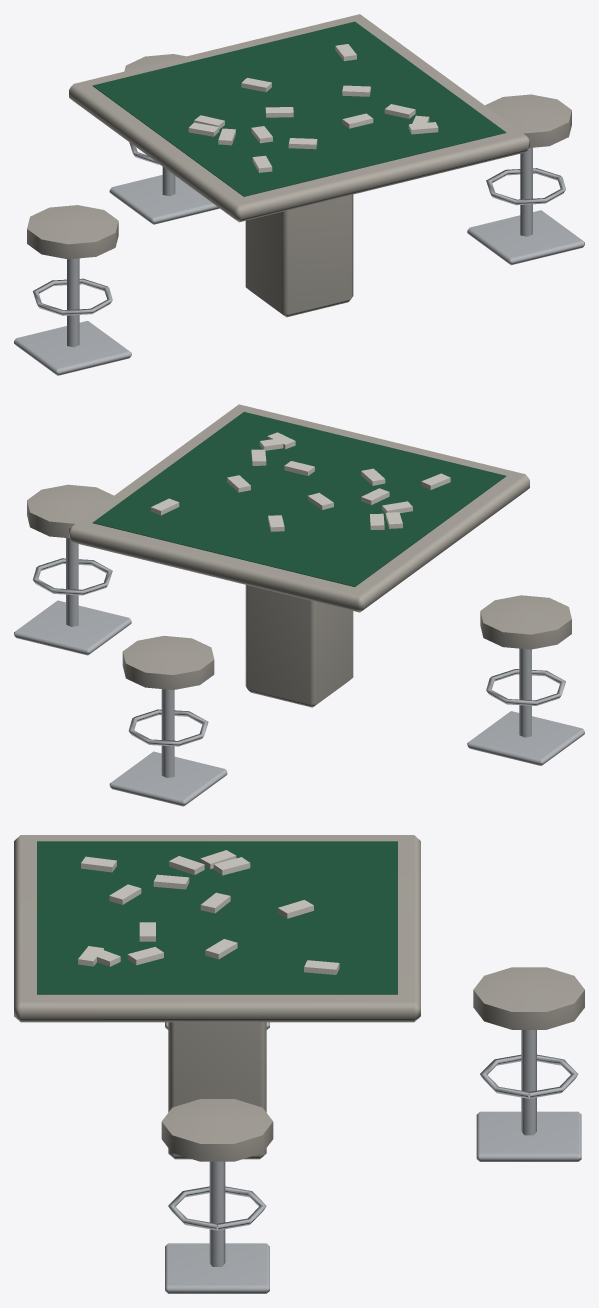
The model's file is DominoTableMIA.fbx.
3 views of the same model, one above another, from view 1: azimuth 30°, elevation 25°; view 2: azimuth 150°, elevation 25°; view 3: azimuth 270°, elevation 25° (orthographic). The views are drawn at different scales.
Visible parts, largest first — view 1: DominoTableMIA; view 2: DominoTableMIA; view 3: DominoTableMIA.
Boxes of the visible parts, x1=… form: DominoTableMIA: x1=14, y1=14, x2=584, y2=375; DominoTableMIA: x1=14, y1=404, x2=584, y2=806; DominoTableMIA: x1=14, y1=835, x2=584, y2=1293.
Size of the model in its own units: 2.22 by 0.77 by 1.74.
